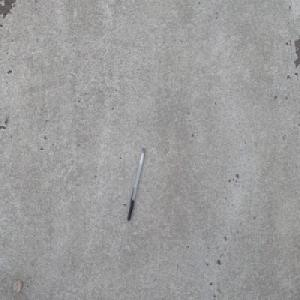Pen: (126, 147, 145, 222)
